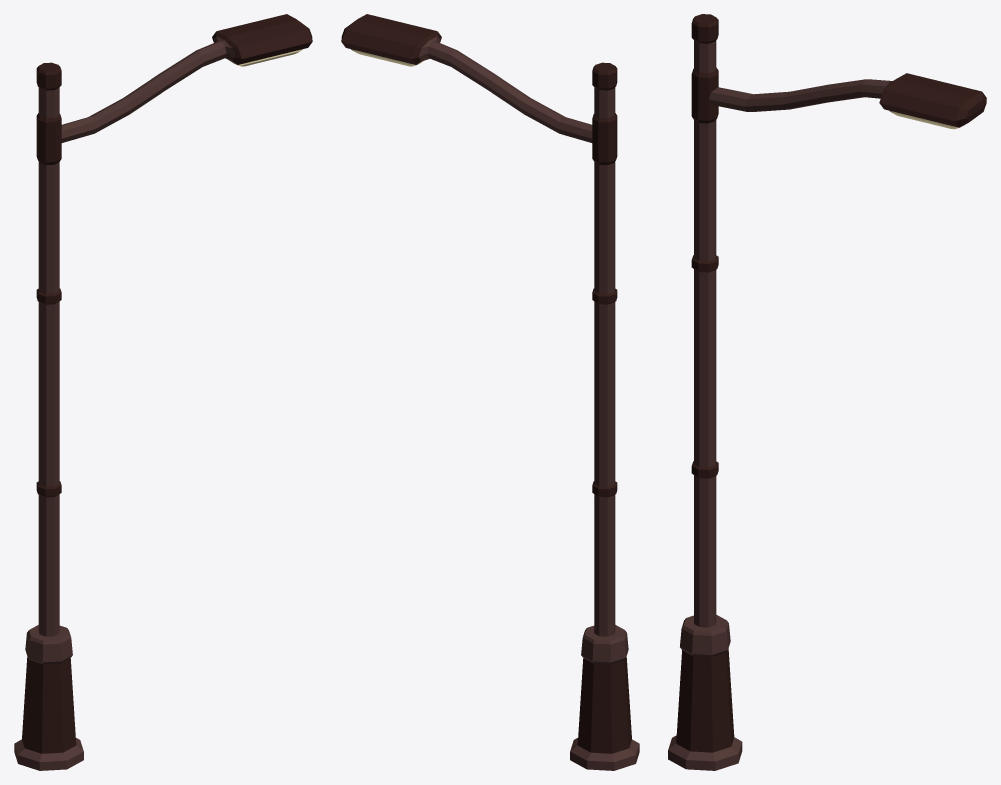
File: Lap_Post_Singel.fbx
3 views of the same model, side by side, from view 1: azimuth 30°, elevation 25°; view 2: azimuth 150°, elevation 25°; view 3: azimuth 330°, elevation 25° (orthographic). The views are drawn at different scales.
Parts seen in each view (by area): view 1: Lap_Post_Singel; view 2: Lap_Post_Singel; view 3: Lap_Post_Singel.
Part boxes in pixels (x1=…): Lap_Post_Singel: x1=14, y1=14, x2=312, y2=770; Lap_Post_Singel: x1=341, y1=14, x2=639, y2=770; Lap_Post_Singel: x1=668, y1=14, x2=986, y2=770.
Bounding box in the file's own units: 722 × 1664 × 157.
